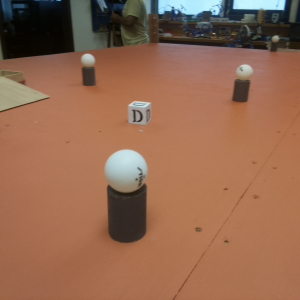blockD: (127, 101, 152, 125)
corner: (148, 13, 160, 45)
obstacle: (106, 150, 148, 241), (232, 64, 252, 103), (81, 53, 96, 83), (271, 35, 279, 51)
